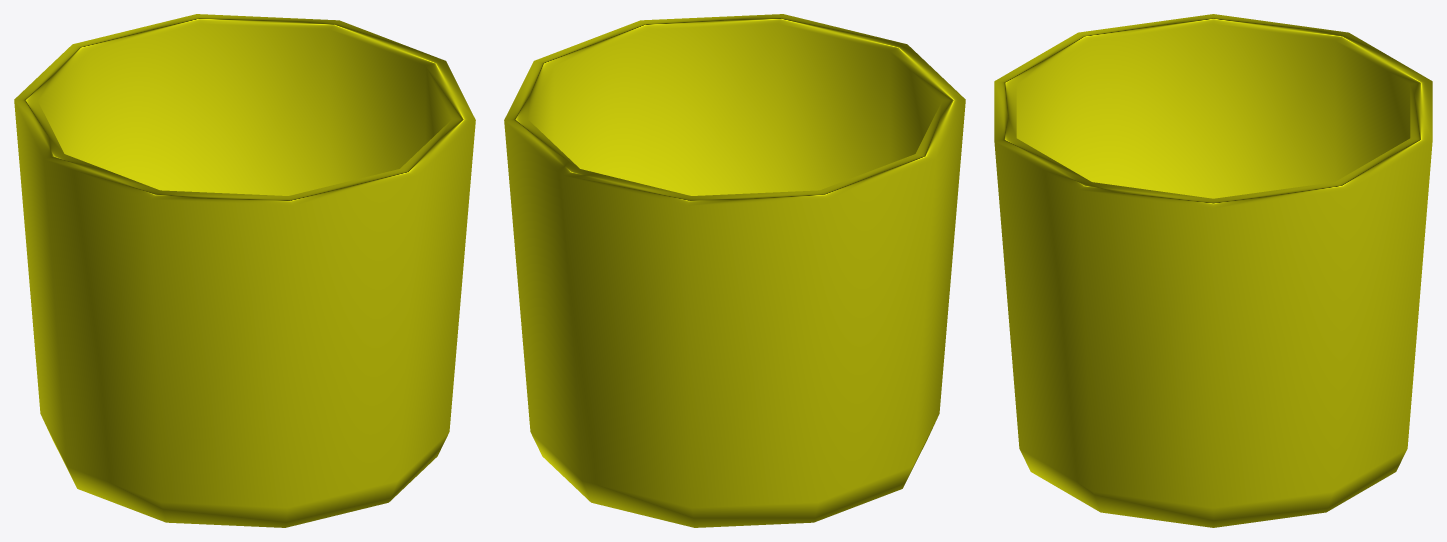
Rendered from cup1.fbx.
The picture shows the model from 3 angles, left to right: view 1: azimuth 30°, elevation 25°; view 2: azimuth 150°, elevation 25°; view 3: azimuth 270°, elevation 25°; orthographic projection.
Visible parts, largest first — view 1: envasset_cup3; view 2: envasset_cup3; view 3: envasset_cup3.
Part boxes in pixels (left/top/right/bottom): envasset_cup3: left=14, top=14, right=475, bottom=527; envasset_cup3: left=504, top=14, right=965, bottom=527; envasset_cup3: left=994, top=14, right=1432, bottom=527.
Bounding box in the file's own units: 1.5 × 1.24 × 1.43.
